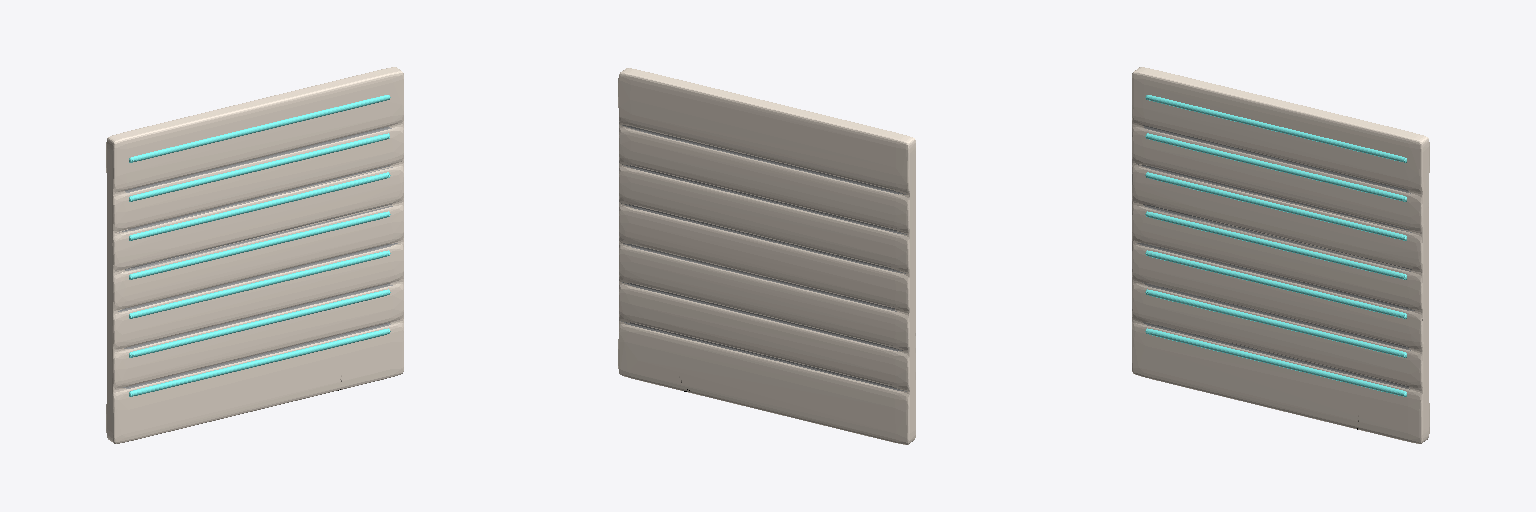
3 views of the same model, side by side, from view 1: azimuth 30°, elevation 25°; view 2: azimuth 150°, elevation 25°; view 3: azimuth 330°, elevation 25° (orthographic).
Visible parts, largest first — view 1: Puerta; view 2: Puerta; view 3: Puerta.
Boxes of the visible parts, <box> form: Puerta: <box>106,67,403,443</box>; Puerta: <box>618,68,915,444</box>; Puerta: <box>1132,67,1429,443</box>.
Bounding box in the file's own units: 2 × 2 × 0.1161.
1 materials, 1 textured.